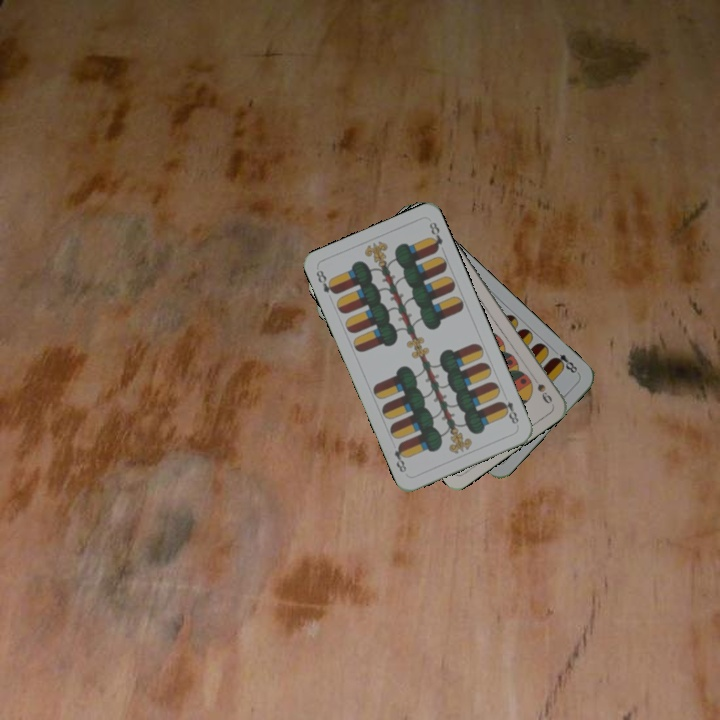E8: (548, 350, 581, 377), (312, 266, 339, 297), (496, 396, 521, 429)
S9: (527, 370, 555, 407)
